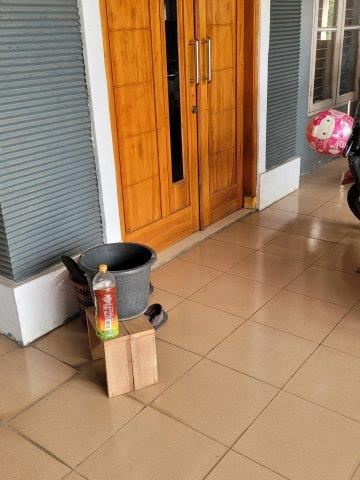botolplastik: (93, 265, 120, 339)
